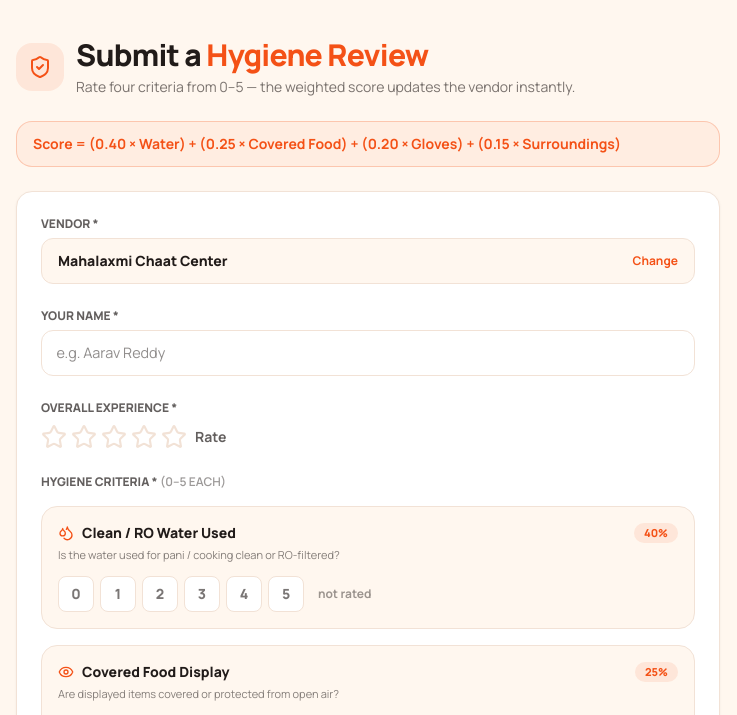
it: HygieneReview › persists the new review so a re-render still shows it
Type "Persist Tester" into the field with placeholder "e.g. Aarav Reddy" at {"x": 368, "y": 353}, box [41,330,695,376]
Click the radio button named "4 stars" at {"x": 144, "y": 437}, box [131,424,157,450]
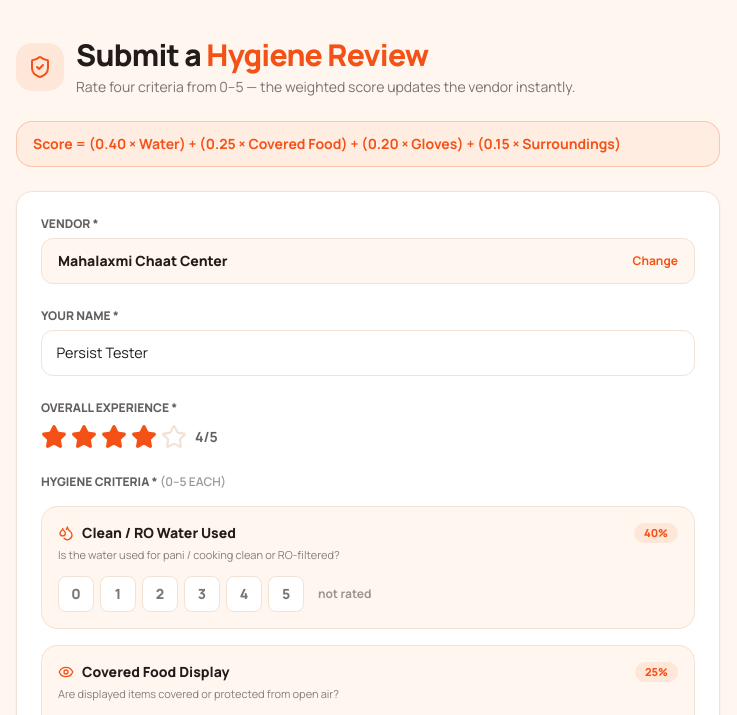
Click the button "2" below "Clean / RO Water Used" at {"x": 160, "y": 594}, box [142,576,178,612]
(page scrolled)
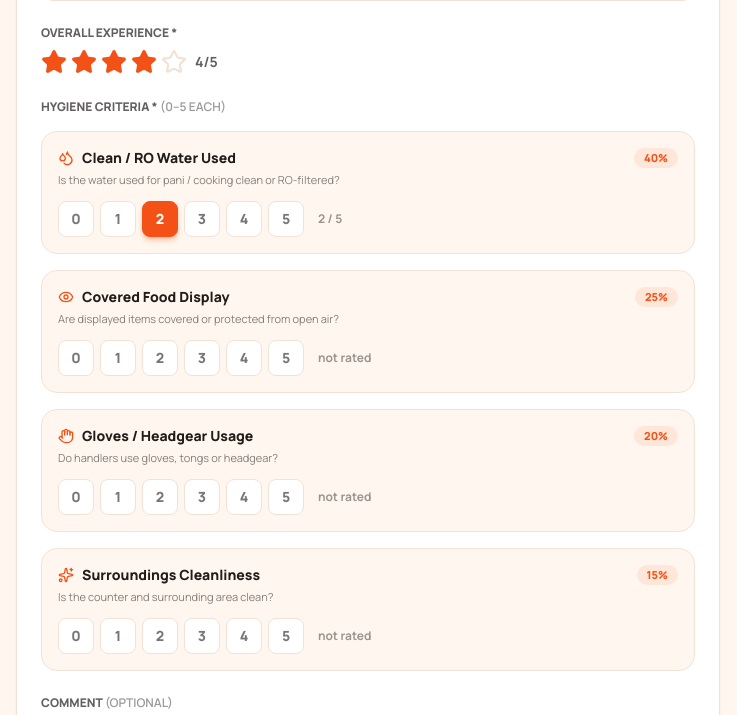
Click the button "2" below "Covered Food Display" at {"x": 160, "y": 358}, box [142,340,178,376]
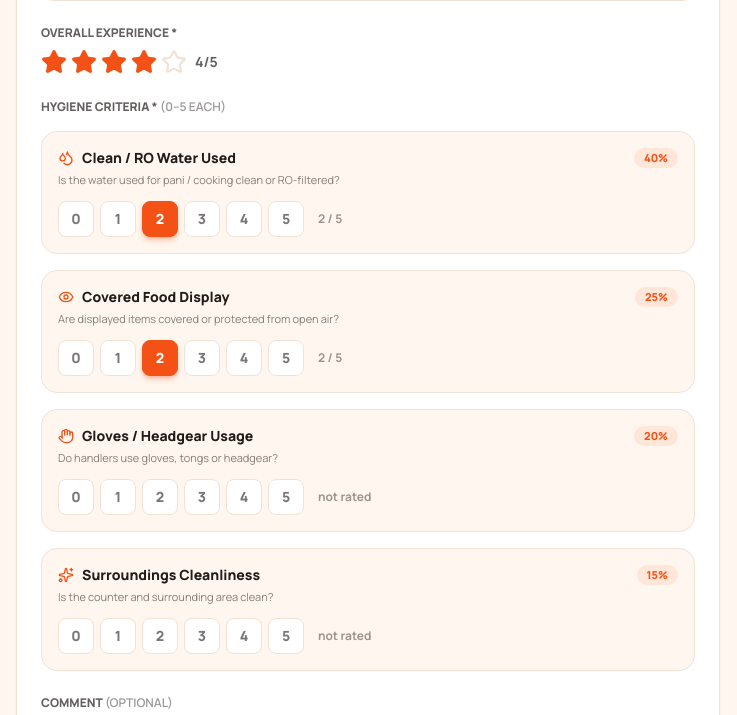
Click the button "2" below "Gloves / Headgear Usage" at {"x": 160, "y": 497}, box [142,479,178,515]
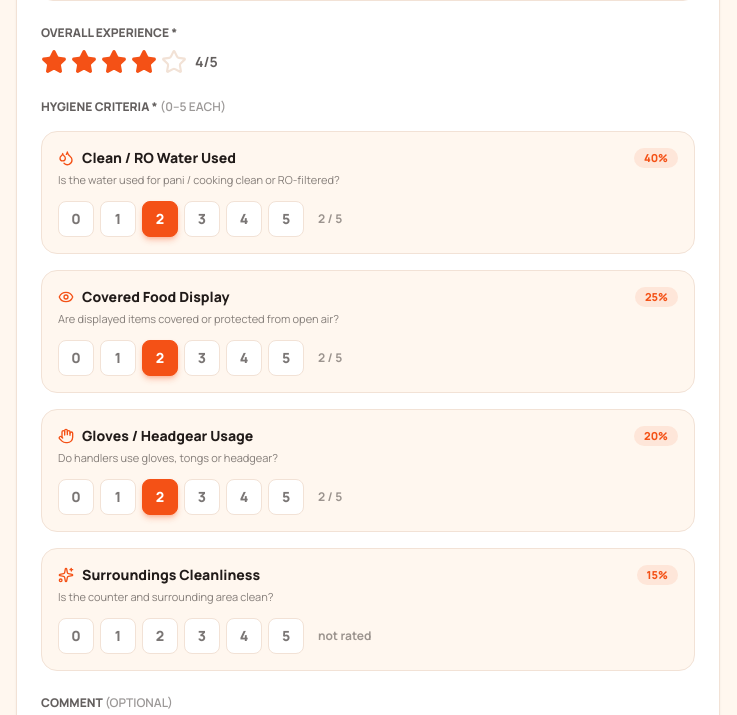
Click the button "2" in the row of "not rated" at {"x": 160, "y": 636}, box [142,618,178,654]
(page scrolled)
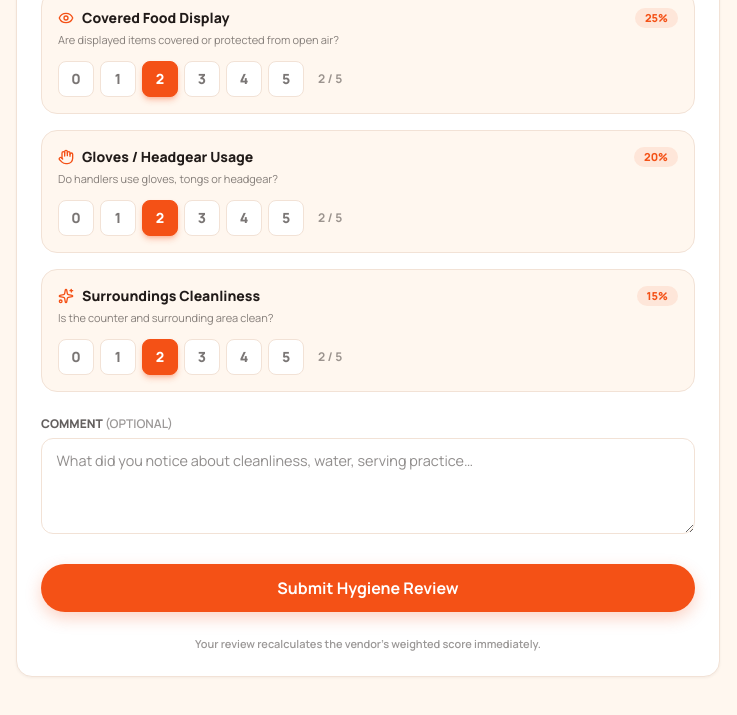
Click the button "Submit Hygiene Review" at {"x": 368, "y": 588}, box [41,564,695,612]
(page scrolled)
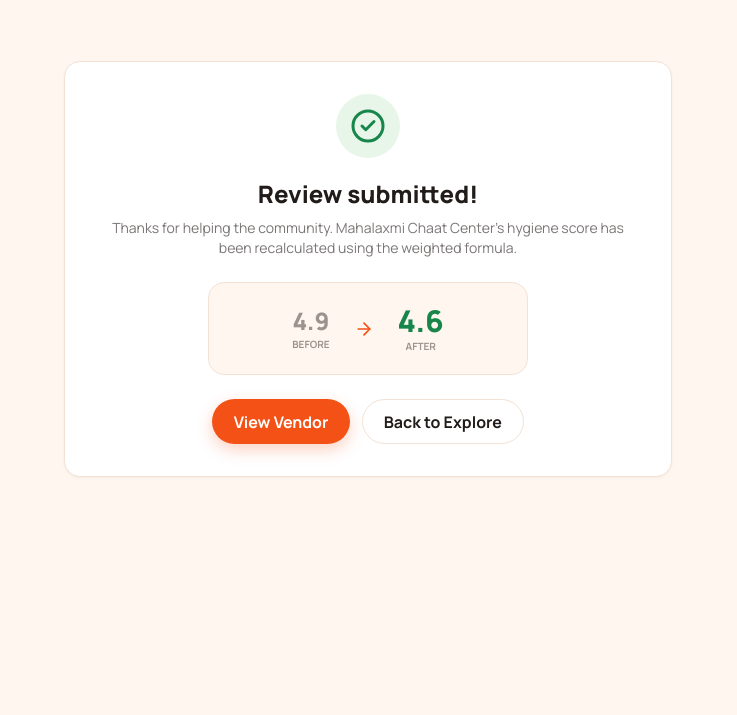
Now the heading "Review submitted!" is shown, box [258,177,478,210]
